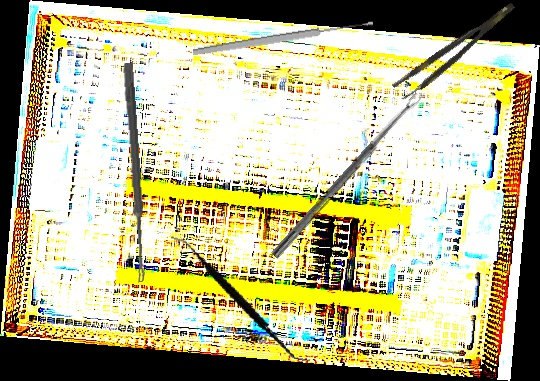Spatula Surgical: (150, 234, 331, 363)
Surgical Spoon: (271, 92, 423, 260), (192, 18, 374, 58), (121, 62, 149, 283)
Tissue Forceps: (391, 0, 523, 103)
